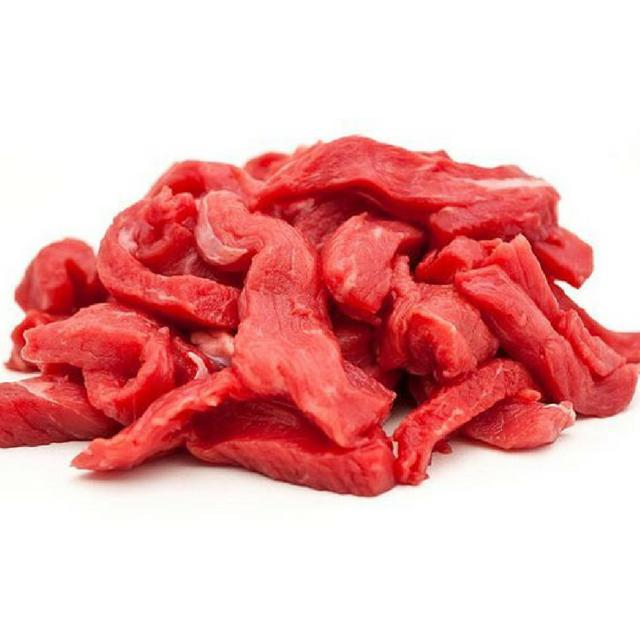beef: (0, 131, 640, 498)
